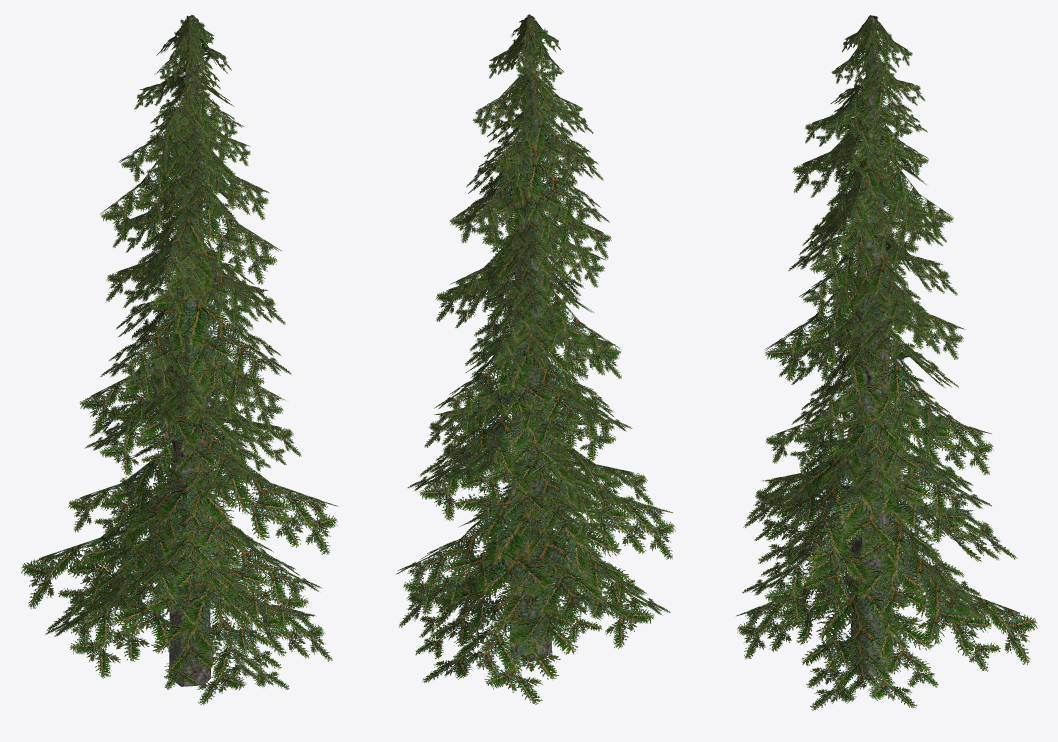
The model's file is fir_v4.glb.
3 renders of one model, left to right at view 1: azimuth 30°, elevation 25°; view 2: azimuth 150°, elevation 25°; view 3: azimuth 270°, elevation 25°, orthographic. The views are drawn at different scales.
Parts seen in each view (by area): view 1: fir_tree; view 2: fir_tree; view 3: fir_tree.
Part boxes in pixels (x1=…): fir_tree: x1=21, y1=14, x2=337, y2=705; fir_tree: x1=396, y1=14, x2=675, y2=704; fir_tree: x1=736, y1=15, x2=1037, y2=710.
Size of the model in its own units: 8.2 by 17.42 by 7.85.
Materials: 1 (1 with a texture image).
